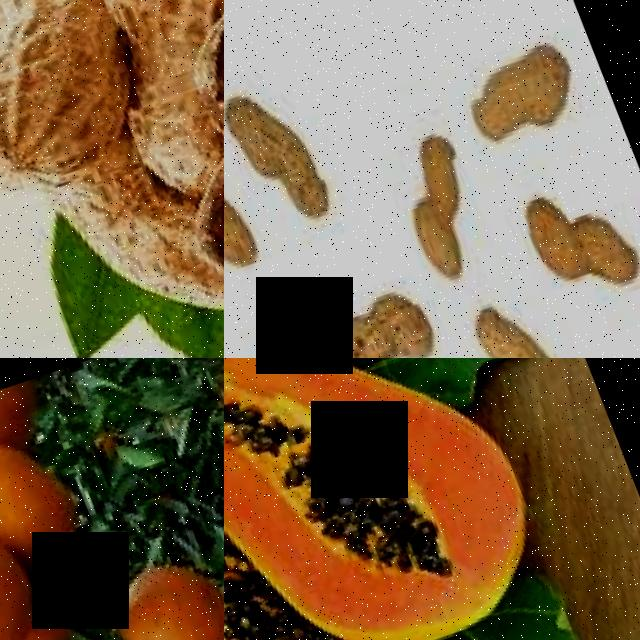orange: (94, 526, 224, 640), (0, 401, 80, 563), (0, 497, 60, 640)
pawpaw: (224, 358, 571, 640), (224, 389, 382, 640)
peanuts: (0, 0, 153, 225), (375, 107, 510, 284), (224, 59, 349, 241), (446, 8, 599, 156), (507, 150, 640, 312), (313, 260, 453, 358), (459, 266, 597, 358), (224, 155, 273, 307), (247, 319, 389, 358)
